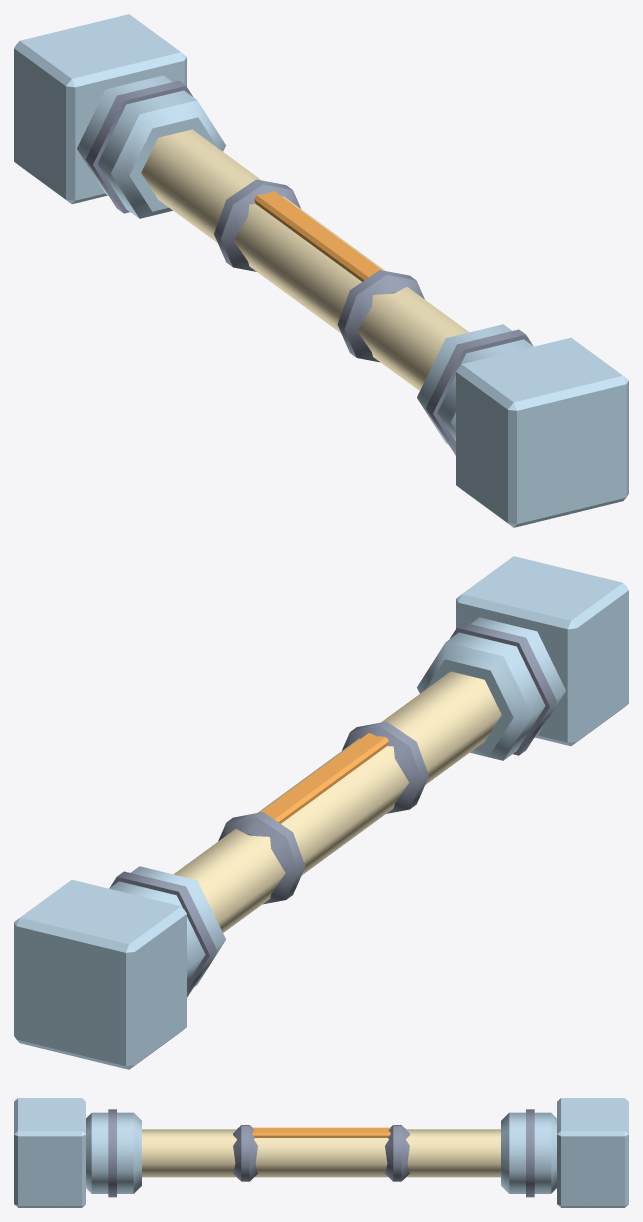
Rendered from R4C_ROD_STANDARD_LOD1.glb.
The picture shows the model from 3 angles, top to bottom: view 1: azimuth 30°, elevation 25°; view 2: azimuth 150°, elevation 25°; view 3: azimuth 270°, elevation 25°; orthographic projection. The views are drawn at different scales.
Visible parts, largest first — view 1: R4C_ROD_STANDARD_LOD1; view 2: R4C_ROD_STANDARD_LOD1; view 3: R4C_ROD_STANDARD_LOD1.
Boxes of the visible parts, left/top/right/bottom form: R4C_ROD_STANDARD_LOD1: left=14, top=14, right=628, bottom=527; R4C_ROD_STANDARD_LOD1: left=14, top=556, right=628, bottom=1069; R4C_ROD_STANDARD_LOD1: left=14, top=1098, right=628, bottom=1207.
Size of the model in its own units: 0.2323 by 0.224 by 1.62.
